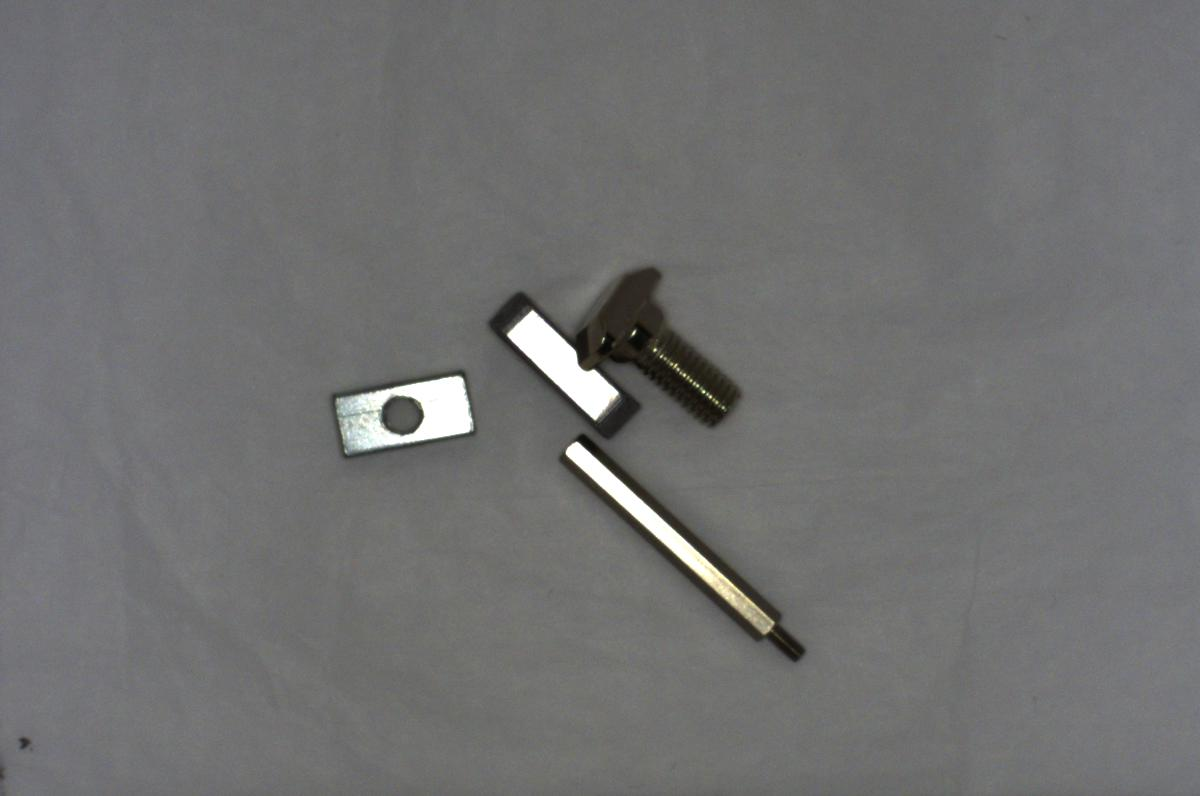Hexagonal steel column: (555, 436, 807, 659)
Keybar: (492, 294, 637, 434)
Rectangular nut: (331, 365, 477, 460)
T-shaped screw: (586, 261, 745, 428)
